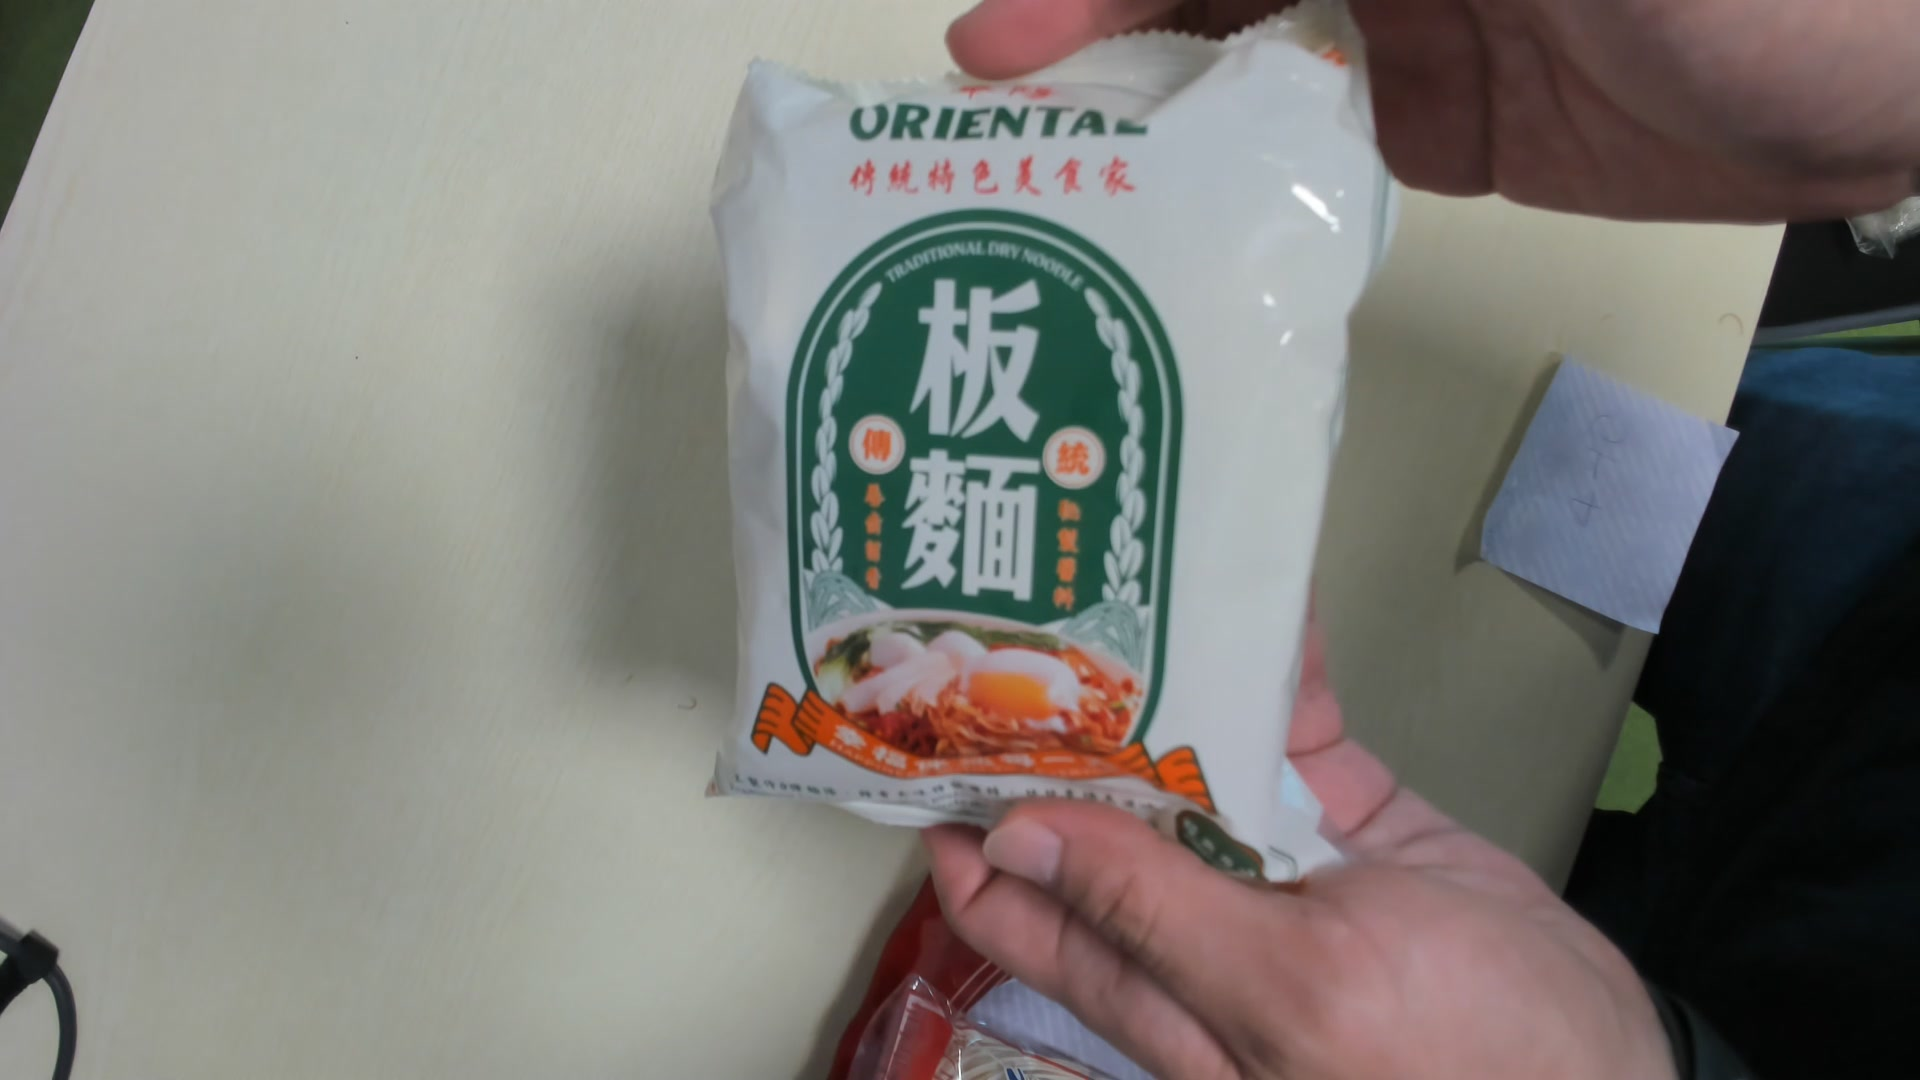BeeHoonVermicelli_100-199g_NonHalal_NonHealthy: (716, 53, 1324, 869)
